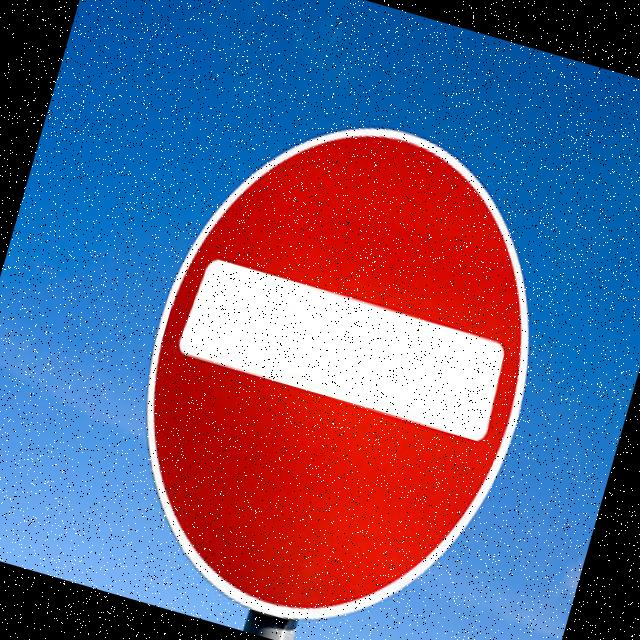do_not_enter: (79, 75, 590, 640)
